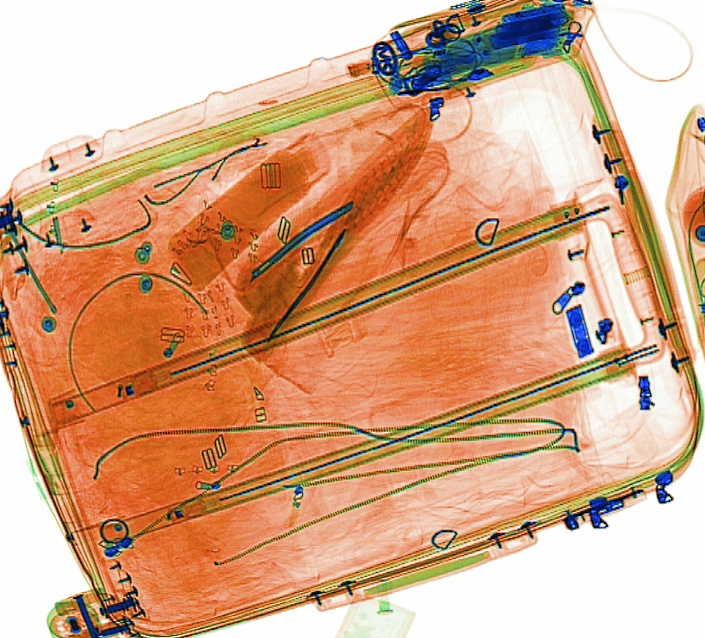powerbank: (482, 4, 573, 53)
